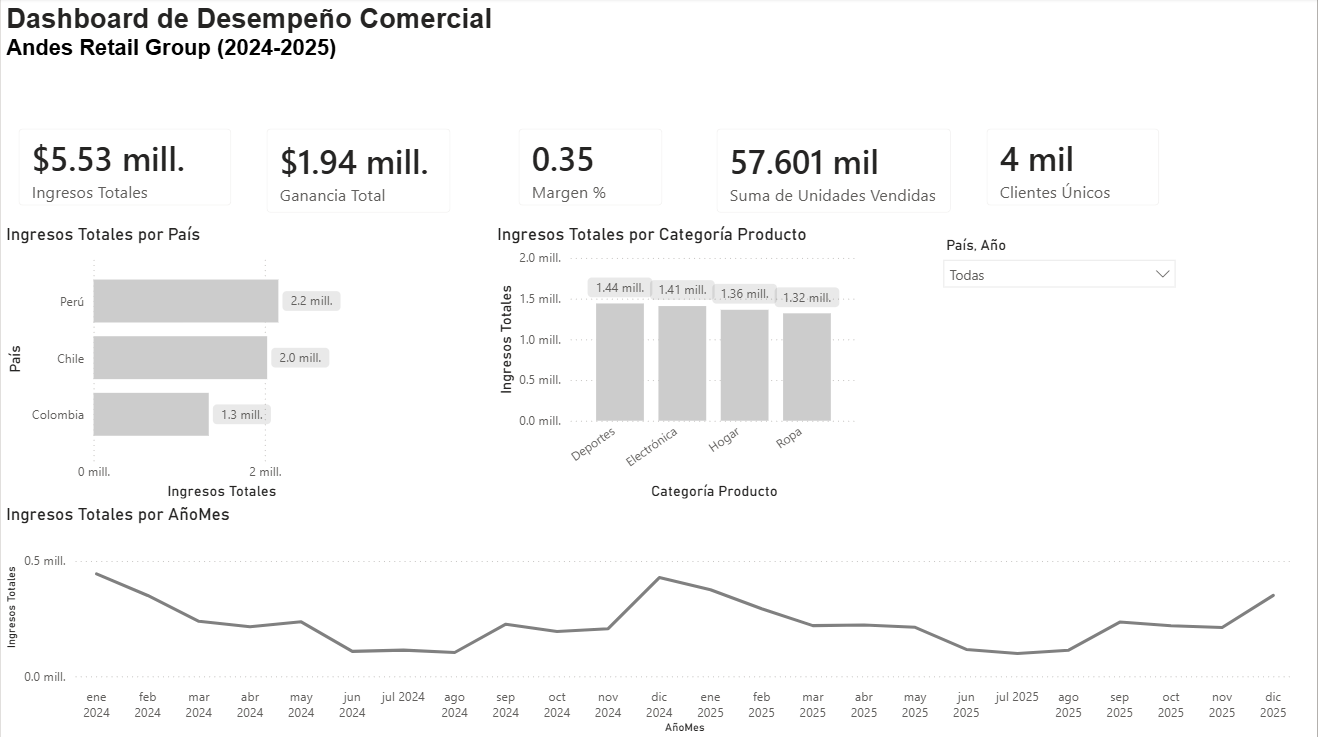

The dashboard page shown, as its layout file describes it:
{"tool":"powerbi","page":{"name":"Overview Ejecutivo","canvas":[1280,720],"ordinal":0},"visuals":[{"type":"cardVisual","fields":{"Data":["Andes_Retail_Group_2024_2025.Ingresos Totales"]},"box":[0,109.9,241.2,109.9],"z":0},{"type":"cardVisual","fields":{"Data":["Andes_Retail_Group_2024_2025.Ganancia Total"]},"box":[241.2,109.9,213,116.7],"z":1},{"type":"cardVisual","fields":{"Data":["Sum(Andes_Retail_Group_2024_2025.Unidades_Vendidas)"]},"box":[678.9,109.9,262.6,116.7],"z":2},{"type":"cardVisual","fields":{"Data":["Andes_Retail_Group_2024_2025.Clientes Únicos"]},"box":[941.5,109.9,202.3,109.9],"z":3},{"type":"lineChart","fields":{"Y":["Andes_Retail_Group_2024_2025.Ingresos Totales"],"Category":["Andes_Retail_Group_2024_2025.AñoMes"]},"box":[410.5,341.4,604,378.4],"z":4},{"type":"barChart","fields":{"Category":["Andes_Retail_Group_2024_2025.País"],"Y":["Andes_Retail_Group_2024_2025.Ingresos Totales"]},"box":[0,219.8,360.9,272.3],"z":5},{"type":"columnChart","fields":{"Category":["Andes_Retail_Group_2024_2025.Categoría Producto"],"Y":["Andes_Retail_Group_2024_2025.Ingresos Totales"]},"box":[0,492.2,360.9,227.6],"z":6},{"type":"textbox","box":[0,0,507.7,70],"z":9},{"type":"cardVisual","fields":{"Data":["Andes_Retail_Group_2024_2025.Margen %"]},"box":[486.3,109.9,174.1,109.9],"z":10},{"type":"slicer","fields":{"Values":["Andes_Retail_Group_2024_2025.País","Andes_Retail_Group_2024_2025.Fecha_Pedido.Variación.Jerarquía de fechas.Año"]},"box":[410.5,226.6,246.1,84.6],"z":11}]}

Visuals, with their boxes in screenshot pixels (x1, y1, x2, y2), scaled from the page's 1280x720 canvas onto the 1318x737 screenshot:
cardVisual - Andes_Retail_Group_2024_2025.Ingresos Totales: (0,112,248,225)
cardVisual - Andes_Retail_Group_2024_2025.Ganancia Total: (248,112,468,232)
cardVisual - Sum(Andes_Retail_Group_2024_2025.Unidades_Vendidas): (699,112,969,232)
cardVisual - Andes_Retail_Group_2024_2025.Clientes Únicos: (969,112,1178,225)
lineChart - Andes_Retail_Group_2024_2025.Ingresos Totales x Andes_Retail_Group_2024_2025.AñoMes: (423,349,1045,736)
barChart - Andes_Retail_Group_2024_2025.País x Andes_Retail_Group_2024_2025.Ingresos Totales: (0,225,372,504)
columnChart - Andes_Retail_Group_2024_2025.Categoría Producto x Andes_Retail_Group_2024_2025.Ingresos Totales: (0,504,372,736)
textbox: (0,0,523,72)
cardVisual - Andes_Retail_Group_2024_2025.Margen %: (501,112,680,225)
slicer - Andes_Retail_Group_2024_2025.País x Andes_Retail_Group_2024_2025.Fecha_Pedido.Variación.Jerarquía de fechas.Año: (423,232,676,319)
